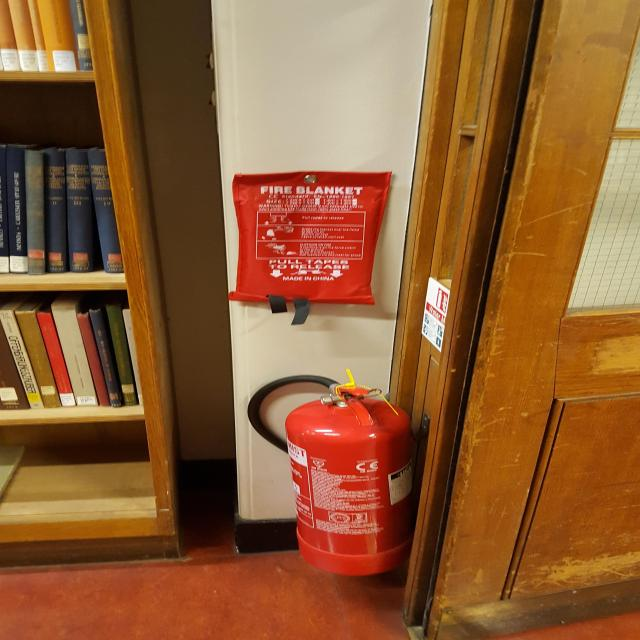fire_extinguisher: (240, 372, 431, 580)
